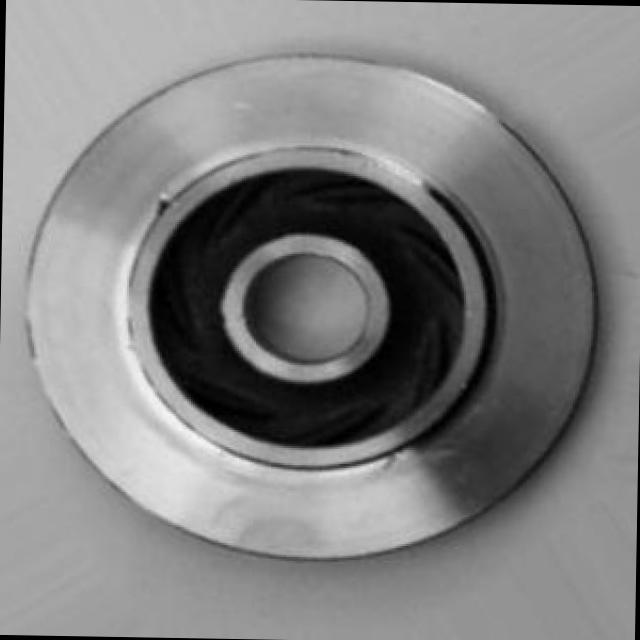Defect: (149, 186, 180, 222)
